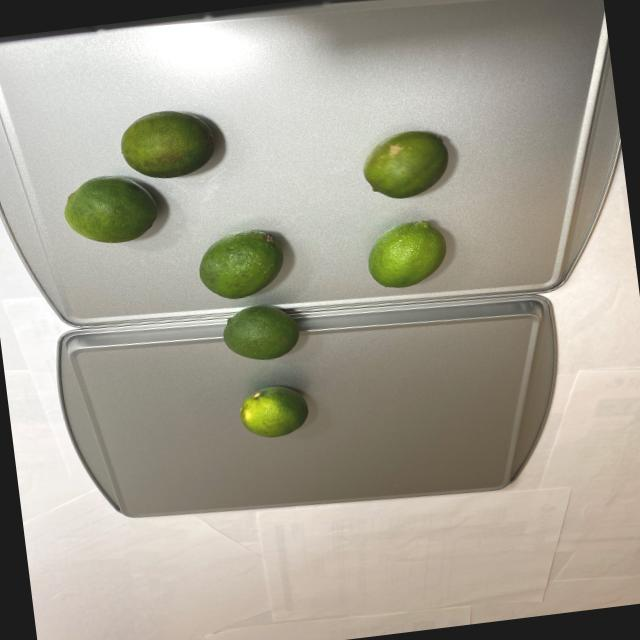lemon: (54, 102, 321, 462), (350, 126, 472, 288)
